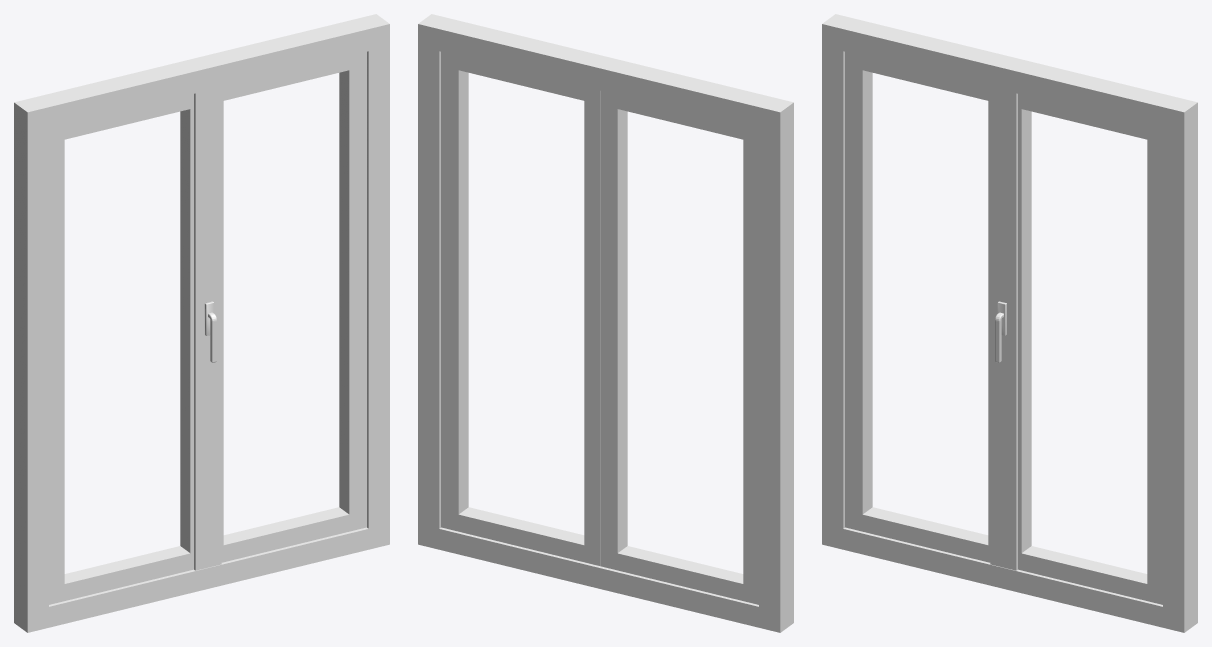
File: window.glb
3 renders of one model, left to right at view 1: azimuth 30°, elevation 25°; view 2: azimuth 150°, elevation 25°; view 3: azimuth 330°, elevation 25°, orthographic.
Parts seen in each view (by area): view 1: 8.0.249.0; view 2: 8.0.249.0; view 3: 8.0.249.0.
Boxes of the visible parts, box(x1,y1,x2,y2) form: 8.0.249.0: box(14, 14, 389, 632); 8.0.249.0: box(418, 14, 793, 632); 8.0.249.0: box(822, 14, 1197, 632).
Bounding box in the file's own units: 163 × 224 × 15.27.
Materials: 1 (1 with a texture image).
